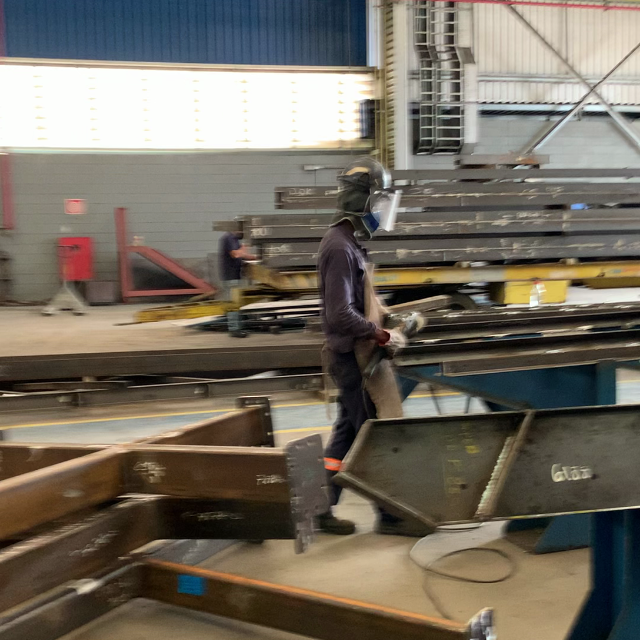face-shield: (363, 184, 401, 235)
glove: (387, 329, 410, 349), (401, 313, 426, 323)
helmet: (333, 157, 397, 188)
person: (315, 157, 430, 412)
safety-shoe: (373, 511, 439, 538), (317, 511, 360, 536)
